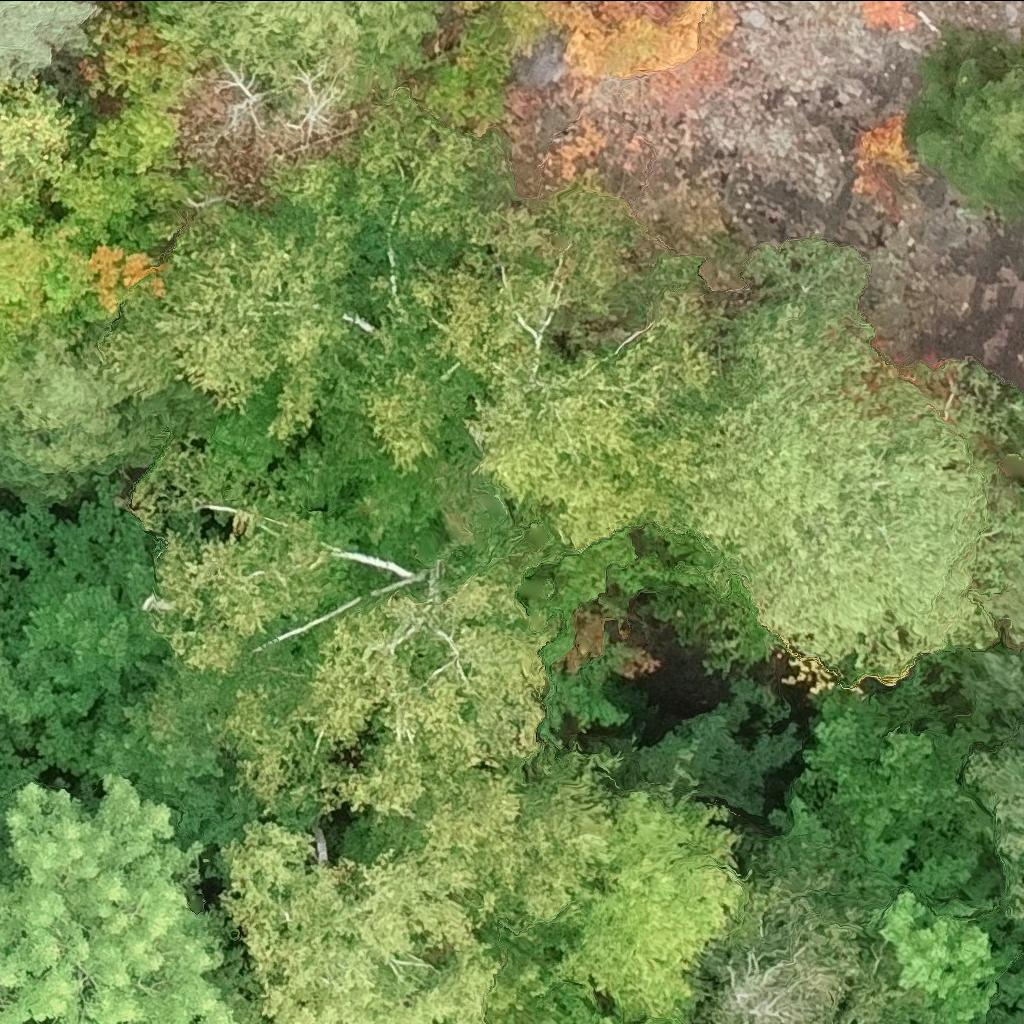crown: (69, 86, 516, 474), (686, 251, 1023, 688), (138, 512, 553, 836), (413, 192, 740, 556), (227, 773, 609, 1023), (0, 777, 236, 1023), (554, 783, 740, 1022), (33, 131, 210, 354), (0, 341, 216, 500), (146, 0, 436, 88), (902, 31, 1023, 224), (80, 11, 201, 175), (488, 956, 690, 1023), (971, 660, 1023, 909), (0, 67, 80, 204), (0, 164, 50, 364), (0, 0, 99, 77), (575, 0, 687, 26), (227, 994, 272, 1023)
